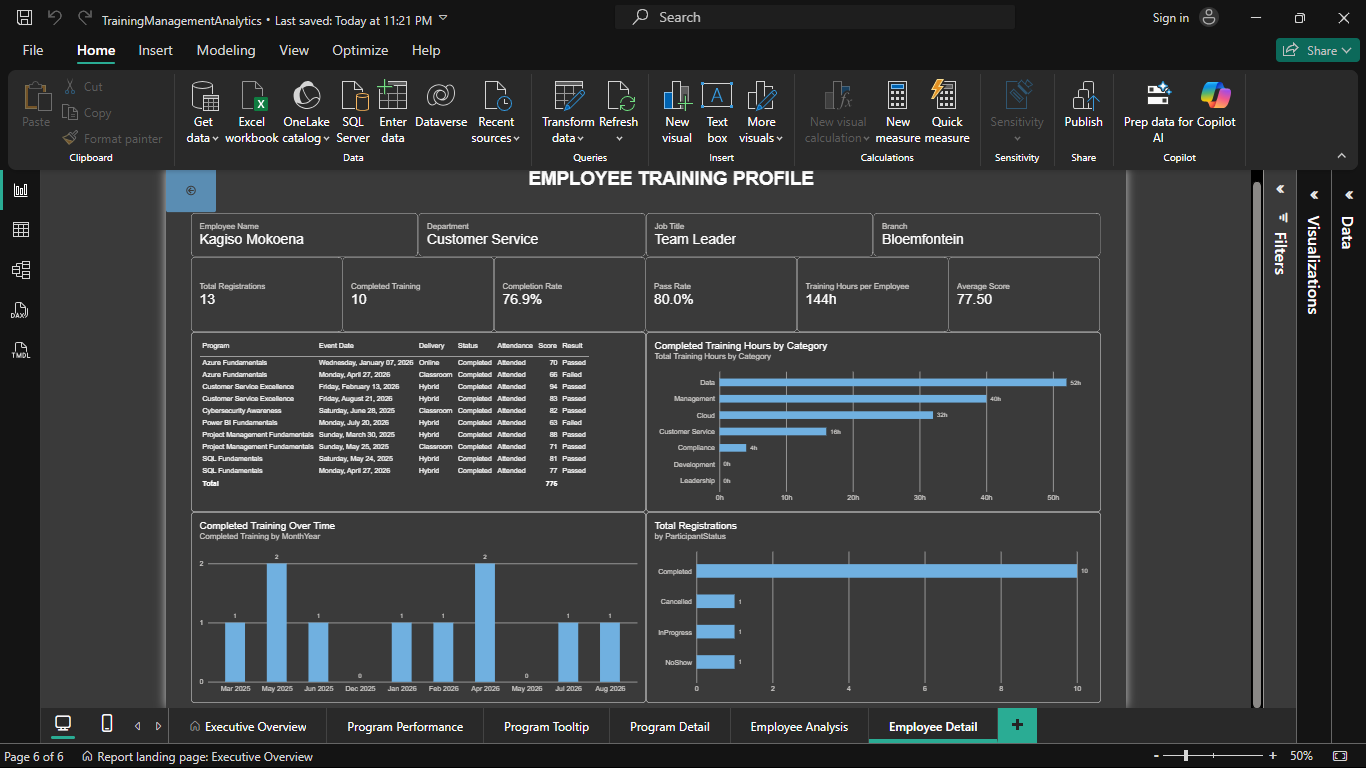

The page's visual inventory and layout, read from the dashboard file:
{"tool":"powerbi","page":{"name":"Employee Detail","canvas":[1920,1080],"ordinal":5},"visuals":[{"type":"actionButton","box":[0,0,100,89],"z":0},{"type":"cardVisual","fields":{"Data":["FactTraining.Selected Employee","FactTraining.Selected Employee Department","FactTraining.Selected Employee Job Title","Min(DimBranch.BranchName)"]},"box":[50,90,1820,87.5],"z":1000},{"type":"cardVisual","fields":{"Data":["FactTraining.Total Registrations","FactTraining.Completed Training","FactTraining.Completion Rate","FactTraining.Pass Rate","FactTraining.Training Hours per Employee","FactTraining.Average Score"]},"box":[50,177.5,1820,150],"z":2000},{"type":"textbox","box":[100,0,1820,90],"z":3000},{"type":"tableEx","fields":{"Values":["DimProgram.ProgramName","FactTraining.EventStartDate","DimTrainingEvent.DeliveryMethod","FactTraining.ParticipantStatus","FactTraining.AttendanceStatus","Sum(FactTraining.Score)","FactTraining.Result"]},"box":[50,328.3,910,360],"z":4000},{"type":"clusteredBarChart","title":"Completed Training Hours by Category","fields":{"Category":["DimProgram.Category"],"Y":["FactTraining.Total Training Hours"]},"box":[960,328.3,910,360],"z":5000},{"type":"clusteredColumnChart","title":"Completed Training Over Time","fields":{"Category":["DimDate.MonthYear"],"Y":["FactTraining.Completed Training"]},"box":[50,688.3,910,381.7],"z":6000},{"type":"clusteredBarChart","fields":{"Category":["FactTraining.ParticipantStatus"],"Y":["FactTraining.Total Registrations"]},"box":[960,688,910,382],"z":7000}]}

Visuals, with their boxes on the page's 1920x1080 design canvas (x1, y1, x2, y2). These are canvas units, not pixel positions in the 1366x768 screenshot, which may show the page scaled, cropped or inside an application window:
actionButton: locate(0, 0, 100, 89)
cardVisual - FactTraining.Selected Employee x FactTraining.Selected Employee Department: locate(50, 90, 1870, 178)
cardVisual - FactTraining.Total Registrations x FactTraining.Completed Training: locate(50, 178, 1870, 328)
textbox: locate(100, 0, 1920, 90)
tableEx - DimProgram.ProgramName x FactTraining.EventStartDate: locate(50, 328, 960, 688)
"Completed Training Hours by Category" clusteredBarChart: locate(960, 328, 1870, 688)
"Completed Training Over Time" clusteredColumnChart: locate(50, 688, 960, 1070)
clusteredBarChart - FactTraining.ParticipantStatus x FactTraining.Total Registrations: locate(960, 688, 1870, 1070)
